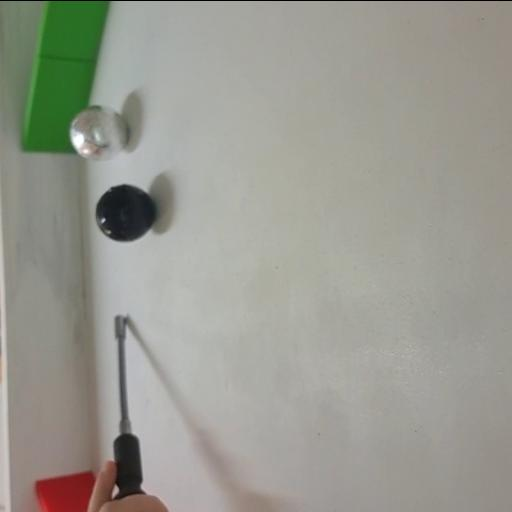alive: (70, 104, 130, 160)
dead: (93, 182, 157, 242)
